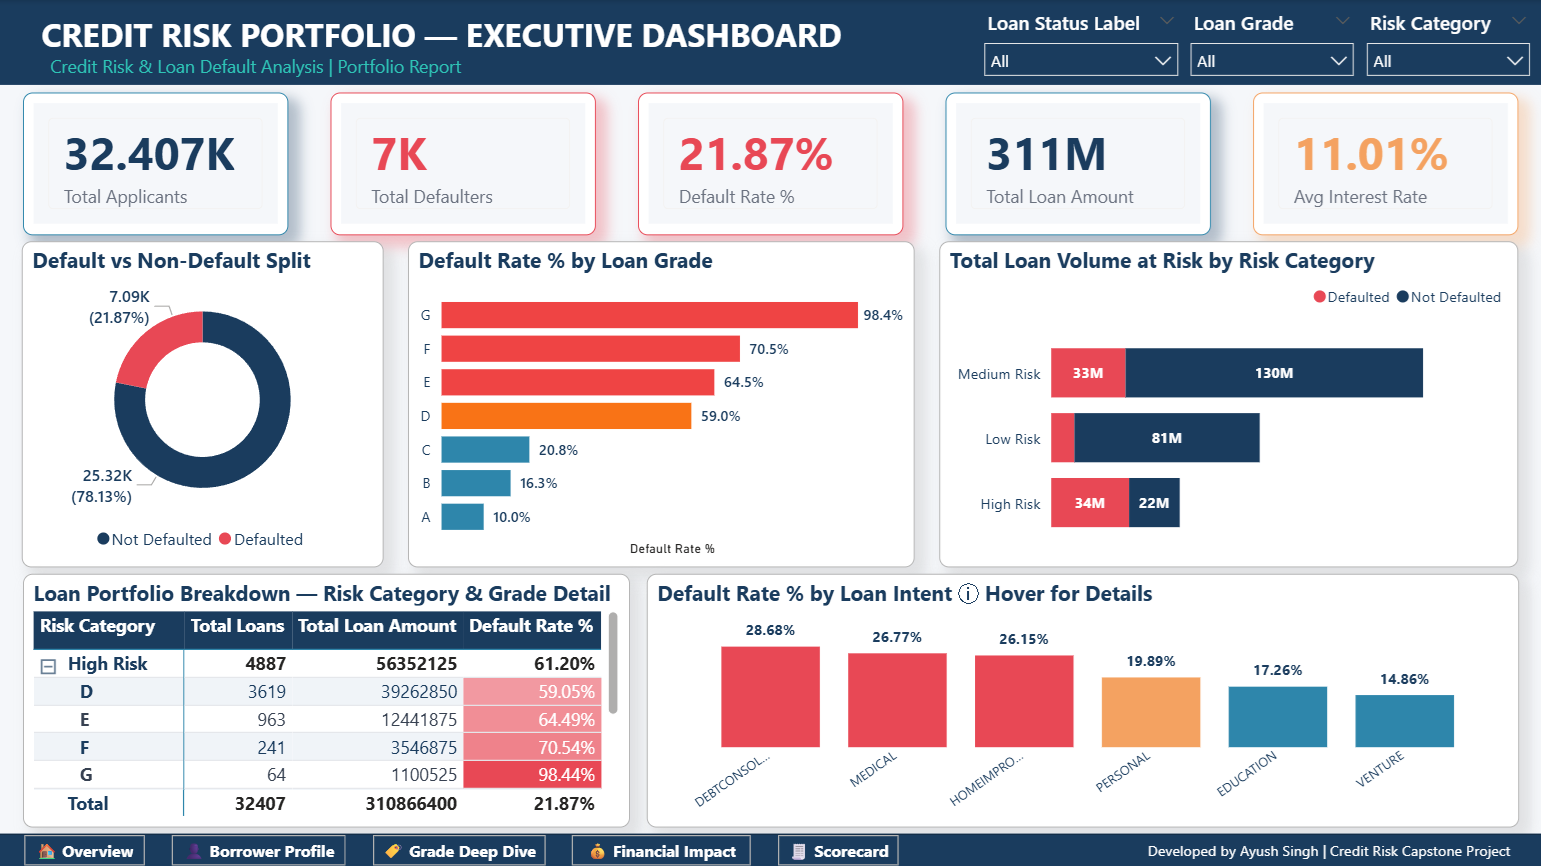

Layout of this report page (visuals, bound fields, positions):
{"tool":"powerbi","page":{"name":"Executive Summary","canvas":[1280,720],"ordinal":0},"visuals":[{"type":"shape","box":[0,0,1280,70.5],"z":0},{"type":"shape","box":[0,691.6,1280,28.4],"z":0,"group":"g1"},{"type":"textbox","box":[31.2,5.2,680.2,67.7],"z":1000},{"type":"actionButton","box":[144.2,692.6,144.2,25.3],"z":1000,"group":"g1"},{"type":"textbox","box":[38.5,39.6,355.2,30.2],"z":2000},{"type":"actionButton","box":[22.1,692.6,100,25.3],"z":2000,"group":"g1"},{"type":"cardVisual","fields":{"Data":["CountNonNull(credit_risk_cleaned.person_age)"]},"box":[20.4,76.2,220,118],"z":3000},{"type":"actionButton","box":[310.5,692.6,143.2,25.3],"z":3000,"group":"g1"},{"type":"cardVisual","fields":{"Data":["Sum(credit_risk_cleaned.loan_status)"]},"box":[275.4,76.2,220,118],"z":4000},{"type":"actionButton","box":[475.7,692.6,148.4,25.3],"z":4000,"group":"g1"},{"type":"cardVisual","fields":{"Data":["_Measures.Default Rate %"]},"box":[530.4,76.2,220,118],"z":5000},{"type":"actionButton","box":[646.3,692.6,100,25.3],"z":5000,"group":"g1"},{"type":"cardVisual","fields":{"Data":["_Measures.Total Loan Amount"]},"box":[785.4,76.2,220,118],"z":6000},{"type":"textbox","box":[948.4,690.5,312.6,28.4],"z":6000,"group":"g1"},{"type":"cardVisual","fields":{"Data":["_Measures.Avg Interest Rate"]},"box":[1040.4,76.2,220,118],"z":7000},{"type":"donutChart","title":"Default vs Non-Default Split","fields":{"Category":["credit_risk_cleaned.loan_status_label"],"Y":["CountNonNull(credit_risk_cleaned.loan_status_label)"]},"box":[20,199.8,300,270],"z":8000},{"type":"clusteredBarChart","title":"Default Rate % by Loan Grade","fields":{"Category":["credit_risk_cleaned.loan_grade"],"Y":["_Measures.Default Rate %"]},"box":[340,199.8,420,270],"z":9000},{"type":"barChart","title":"Total Loan Volume at Risk by Risk Category","fields":{"Category":["credit_risk_cleaned.risk_category"],"Y":["Sum(credit_risk_cleaned.loan_amnt)"],"Series":["credit_risk_cleaned.loan_status_label"]},"box":[780,199.8,480,270],"z":10000},{"type":"slicer","fields":{"Values":["credit_risk_cleaned.risk_category"]},"box":[1124.2,2.5,155.8,65.3],"z":11000},{"type":"pivotTable","title":"Loan Portfolio Breakdown — Risk Category & Grade Detail","fields":{"Rows":["credit_risk_cleaned.risk_category","credit_risk_cleaned.loan_grade"],"Values":["CountNonNull(credit_risk_cleaned.person_age)","Sum(credit_risk_cleaned.loan_amnt)","_Measures.Default Rate %"]},"box":[20.4,475.9,503,210],"z":12000},{"type":"clusteredColumnChart","title":"Default Rate % by Loan Intent  ⓘ Hover for Details","fields":{"Category":["credit_risk_cleaned.loan_intent"],"Y":["_Measures.Default Rate %"]},"box":[537.9,475.7,722.9,210],"z":13000},{"type":"slicer","fields":{"Values":["credit_risk_cleaned.loan_grade"]},"box":[978.4,1.9,155.8,66.3],"z":14000},{"type":"slicer","fields":{"Values":["credit_risk_cleaned.loan_status_label"]},"box":[807.4,1.9,181.1,66.3],"z":15000},{"type":"group","id":"g1","title":"Group 1","box":[0,690.5,1280,29.5],"z":16000}]}

Visuals, with their boxes in screenshot pixels (x1, y1, x2, y2), scaled from the page's 1280x720 canvas onto the 1541x866 screenshot:
shape: [0,0,1540,85]
shape: [0,832,1540,865]
textbox: [38,6,856,88]
actionButton: [174,833,347,863]
textbox: [46,48,474,84]
actionButton: [27,833,147,863]
cardVisual - CountNonNull(credit_risk_cleaned.person_age): [25,92,289,234]
actionButton: [374,833,546,863]
cardVisual - Sum(credit_risk_cleaned.loan_status): [332,92,596,234]
actionButton: [573,833,751,863]
cardVisual - _Measures.Default Rate %: [639,92,903,234]
actionButton: [778,833,898,863]
cardVisual - _Measures.Total Loan Amount: [946,92,1210,234]
textbox: [1142,831,1518,865]
cardVisual - _Measures.Avg Interest Rate: [1253,92,1517,234]
"Default vs Non-Default Split" donutChart: [24,240,385,565]
"Default Rate % by Loan Grade" clusteredBarChart: [409,240,915,565]
"Total Loan Volume at Risk by Risk Category" barChart: [939,240,1517,565]
slicer - credit_risk_cleaned.risk_category: [1353,3,1540,82]
"Loan Portfolio Breakdown — Risk Category & Grade Detail" pivotTable: [25,572,630,825]
"Default Rate % by Loan Intent  ⓘ Hover for Details" clusteredColumnChart: [648,572,1518,825]
slicer - credit_risk_cleaned.loan_grade: [1178,2,1365,82]
slicer - credit_risk_cleaned.loan_status_label: [972,2,1190,82]
"Group 1" group: [0,831,1540,865]
